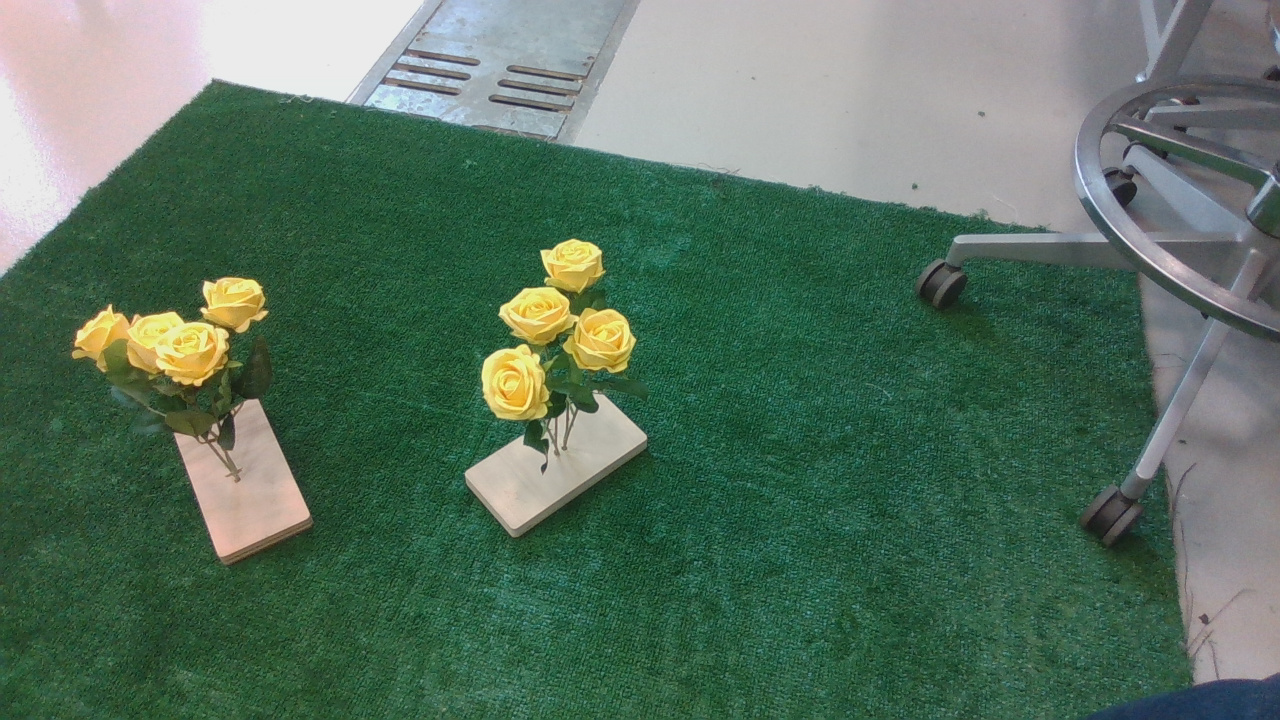rose: (72, 261, 287, 481), (475, 239, 655, 465)
